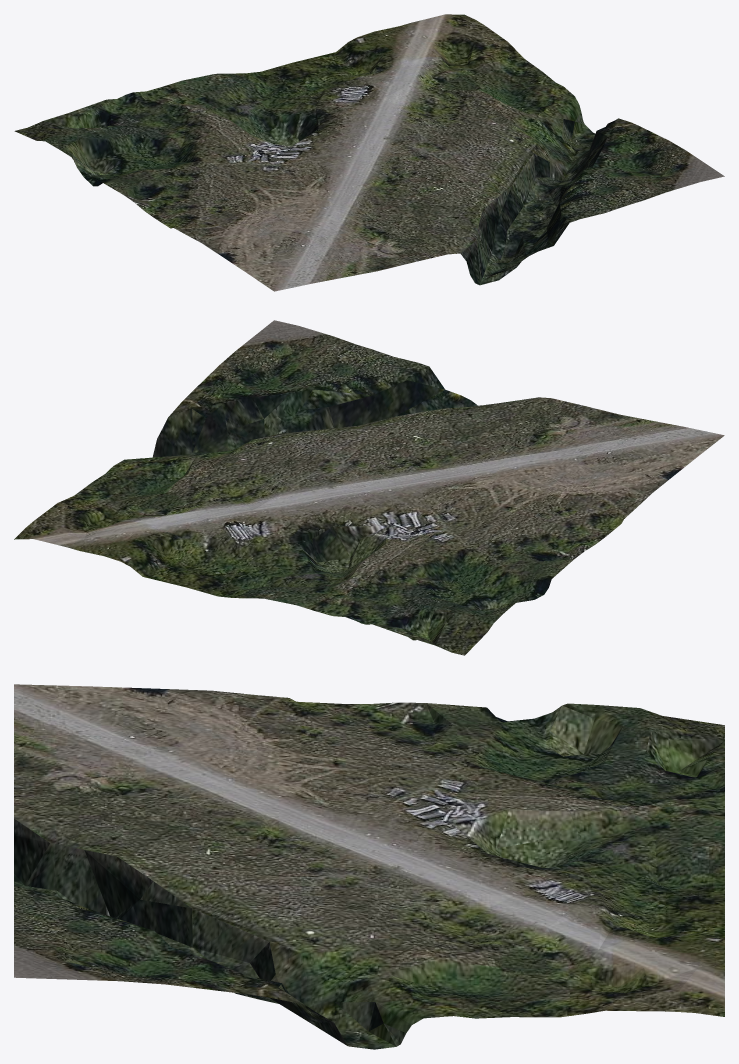
File: map_15_8179_13779.dae
3 views of the same model, one above another, from view 1: azimuth 30°, elevation 25°; view 2: azimuth 150°, elevation 25°; view 3: azimuth 270°, elevation 25° (orthographic). The views are drawn at different scales.
Parts seen in each view (by area): view 1: Ter0; view 2: Ter0; view 3: Ter0.
Boxes of the visible parts, left/top/right/bottom form: Ter0: left=14, top=14, right=724, bottom=291; Ter0: left=14, top=320, right=724, bottom=655; Ter0: left=14, top=684, right=724, bottom=1049.
Bounding box in the file's own units: 63.87 × 63.88 × 8.16.
Materials: 3 (3 with a texture image).
